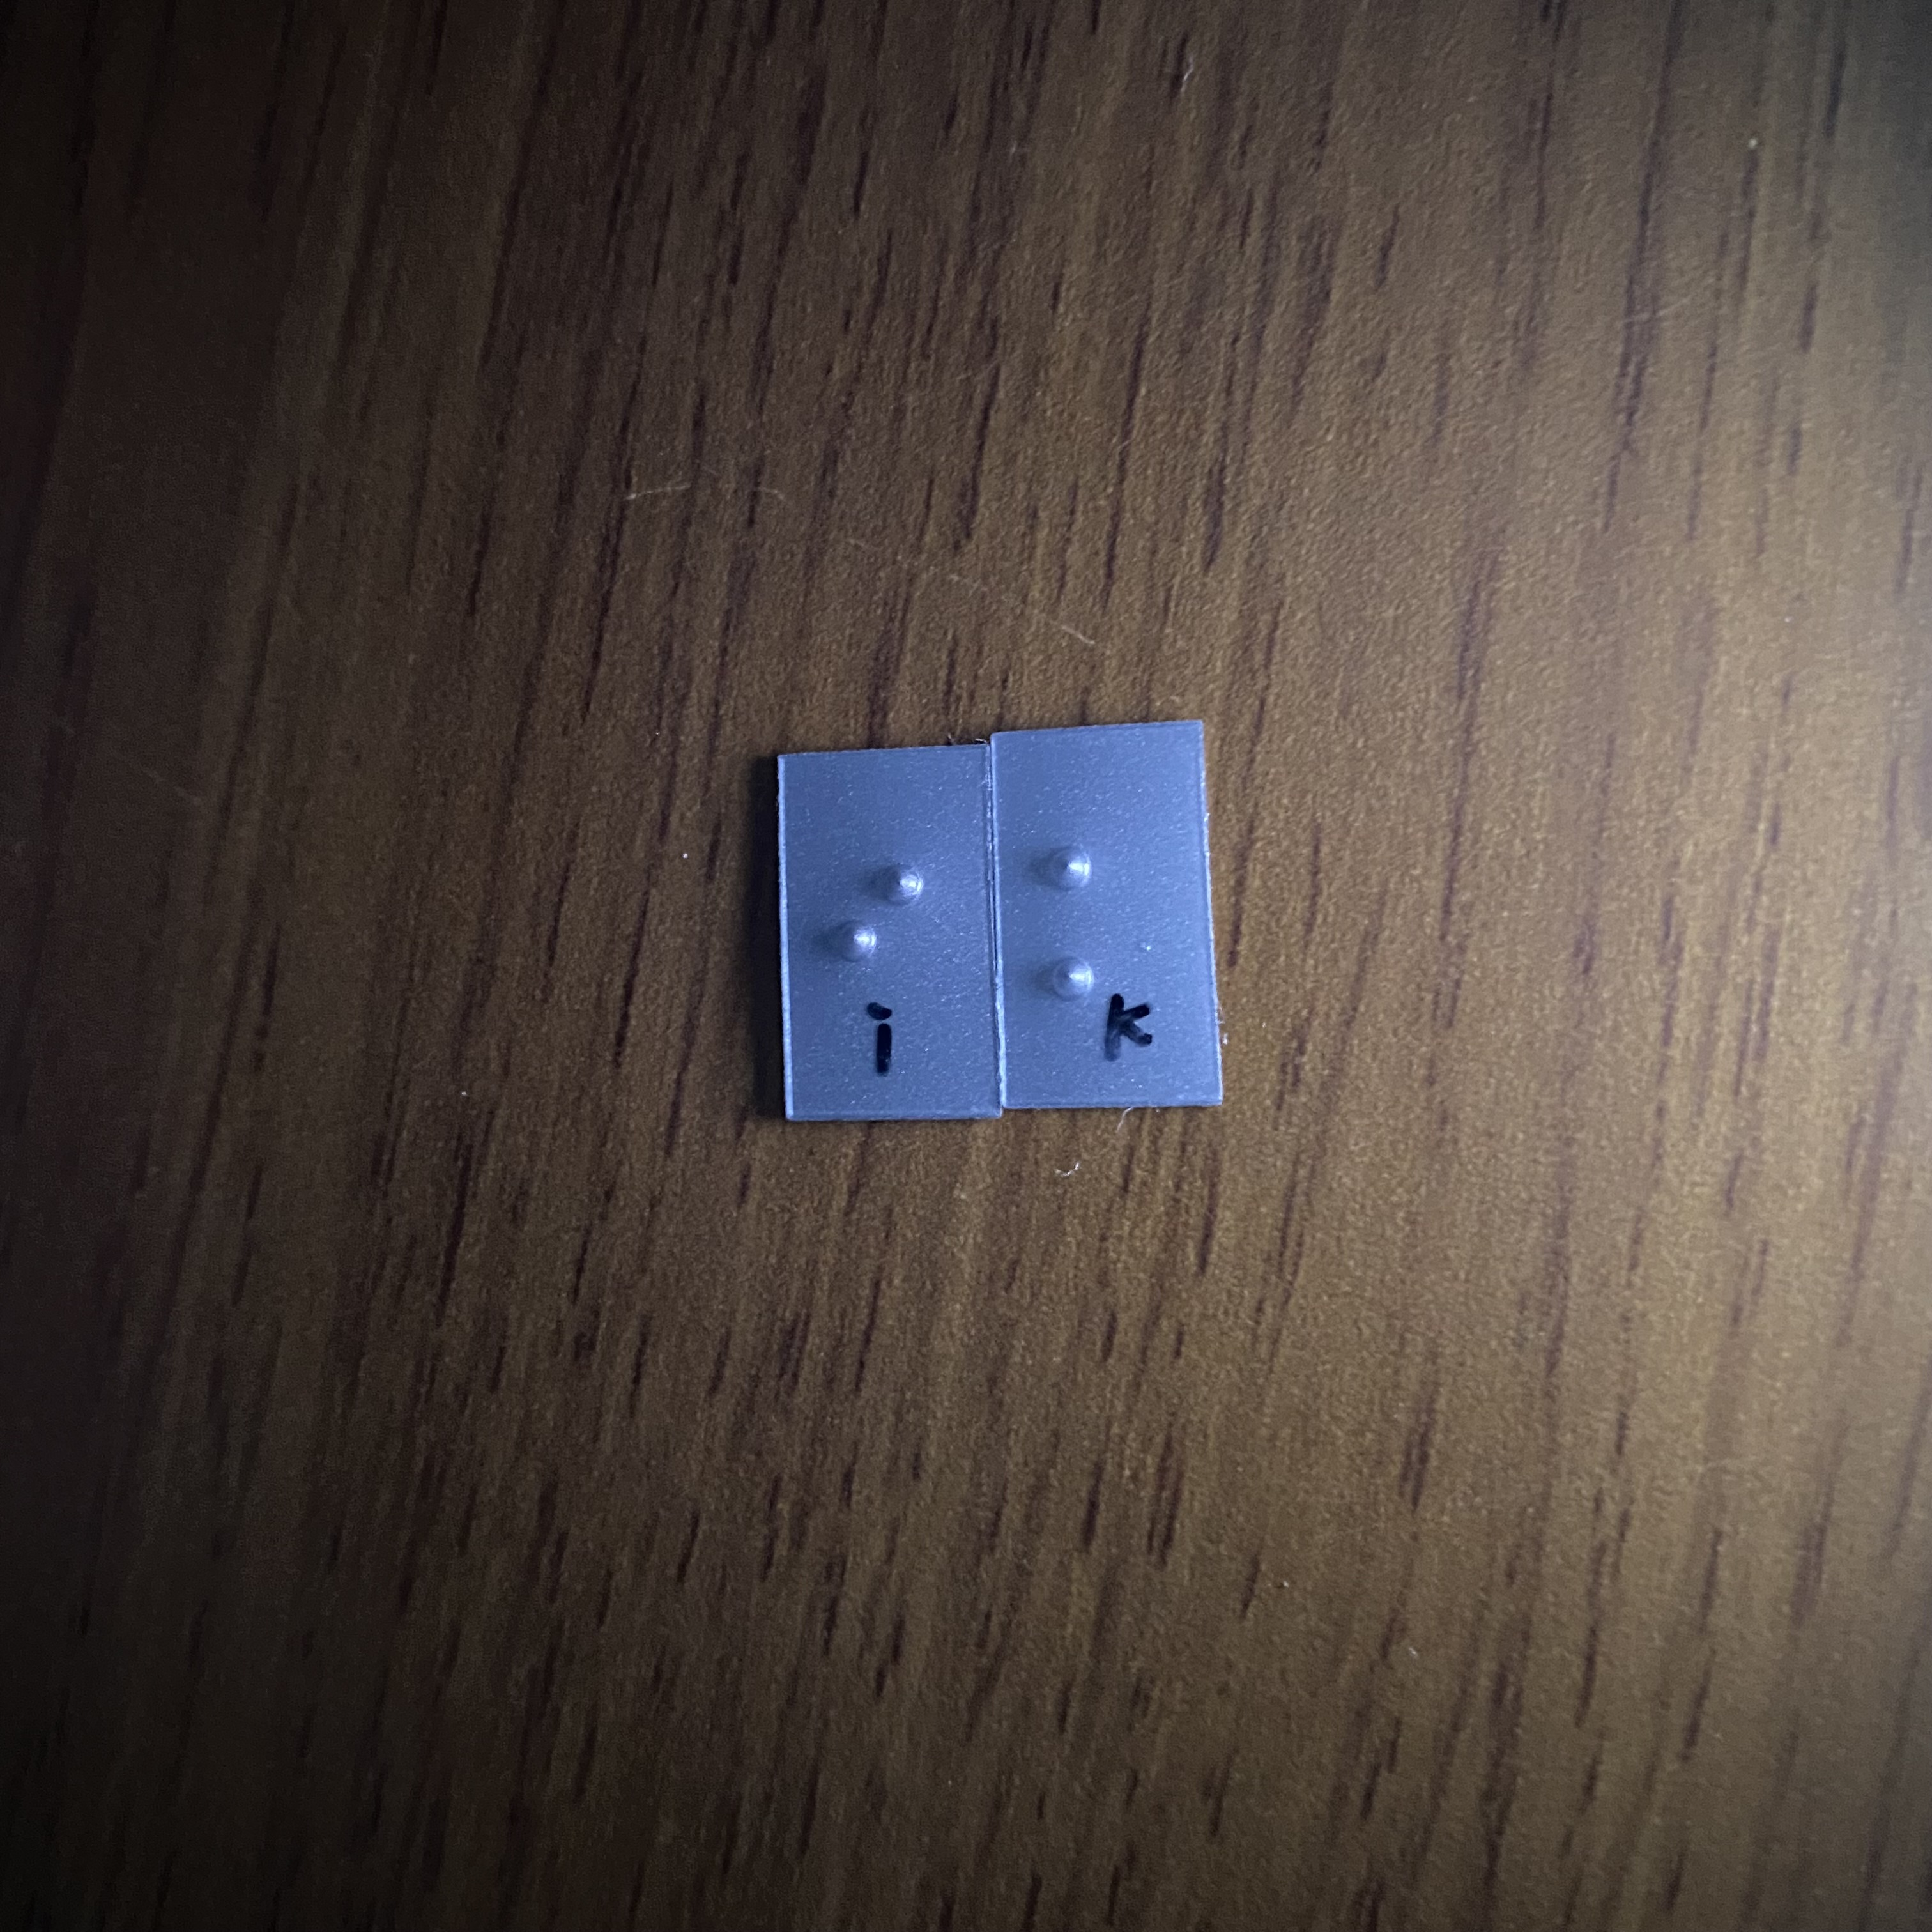i: (798, 846, 946, 1035)
k: (1016, 822, 1166, 1027)
